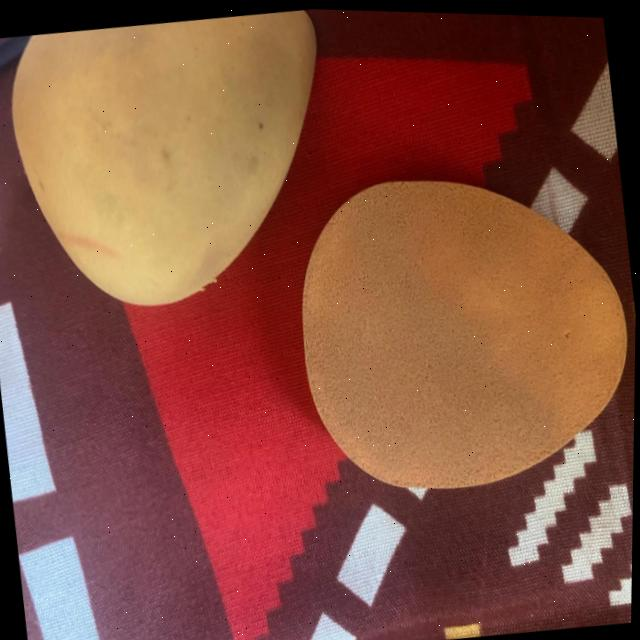beauty blender: (249, 132, 639, 534), (0, 0, 370, 364)
